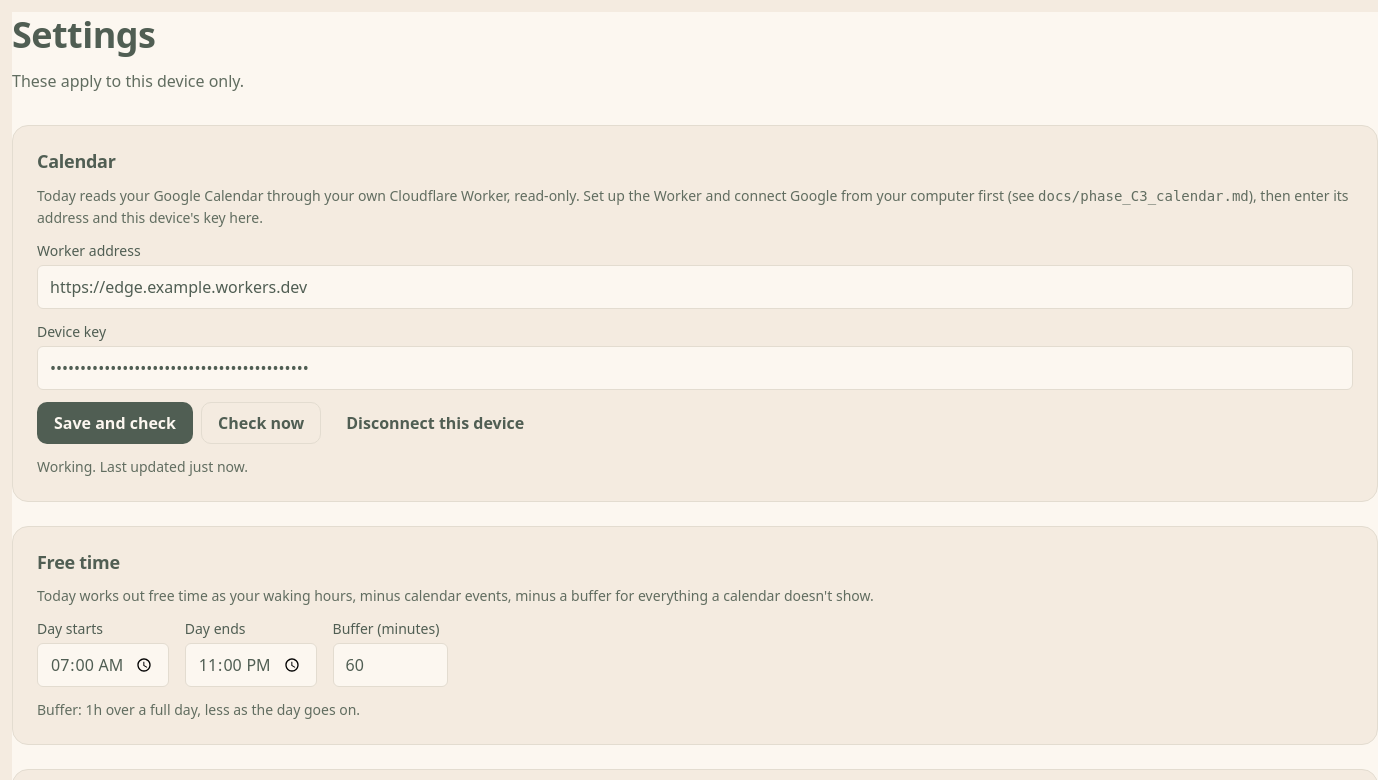
SettingsRoute: calendar connection › disconnecting forgets the connection and the cached calendar
Click the button "Disconnect this device".
click(435, 422)  # box left=329, top=402, right=541, bottom=444
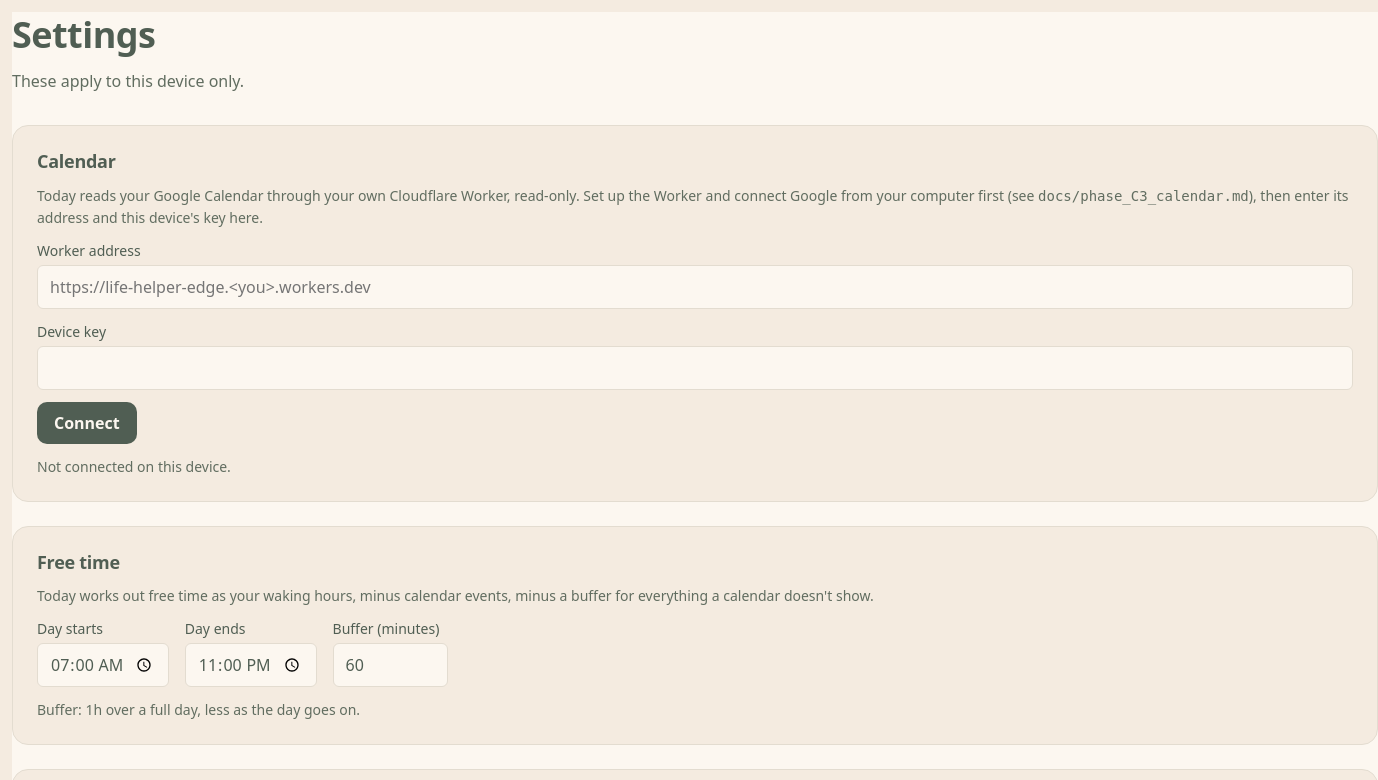
Result: the text "Not connected on this device." is shown at left=37, top=456, right=231, bottom=476
